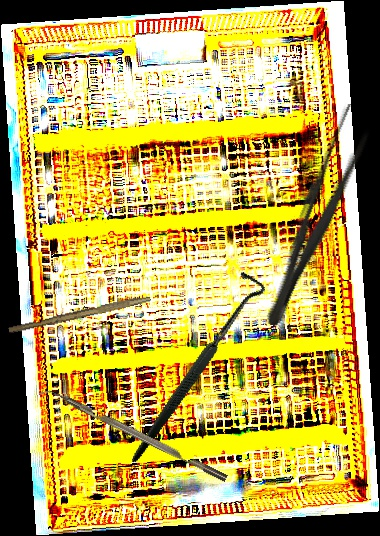Chopper: (37, 382, 228, 491)
Dressing Forceps: (254, 101, 380, 333)
Hook Surgical: (77, 264, 310, 465)
Scalpel Handle: (7, 291, 152, 337)
